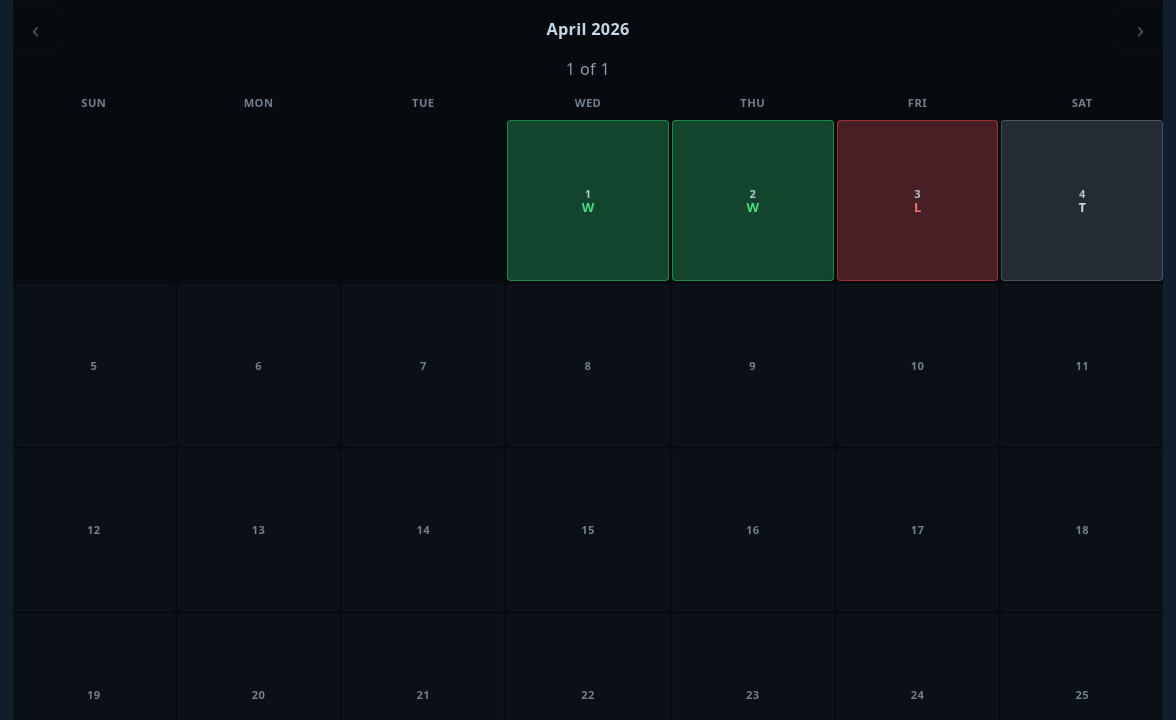
Scenario: RecordTimelineStrip › renders a month calendar with W/L/T cells and tie legend
The image size is (1176, 720).
Expected: the heading "April 2026" is shown, [546,18,630,40]
Expected: the button named "Previous month" is disabled, [13,6,58,51]
Hover over the list item "4 T".
mouse_move(1082, 201)  # box [1001,120,1163,281]
(page scrolled)
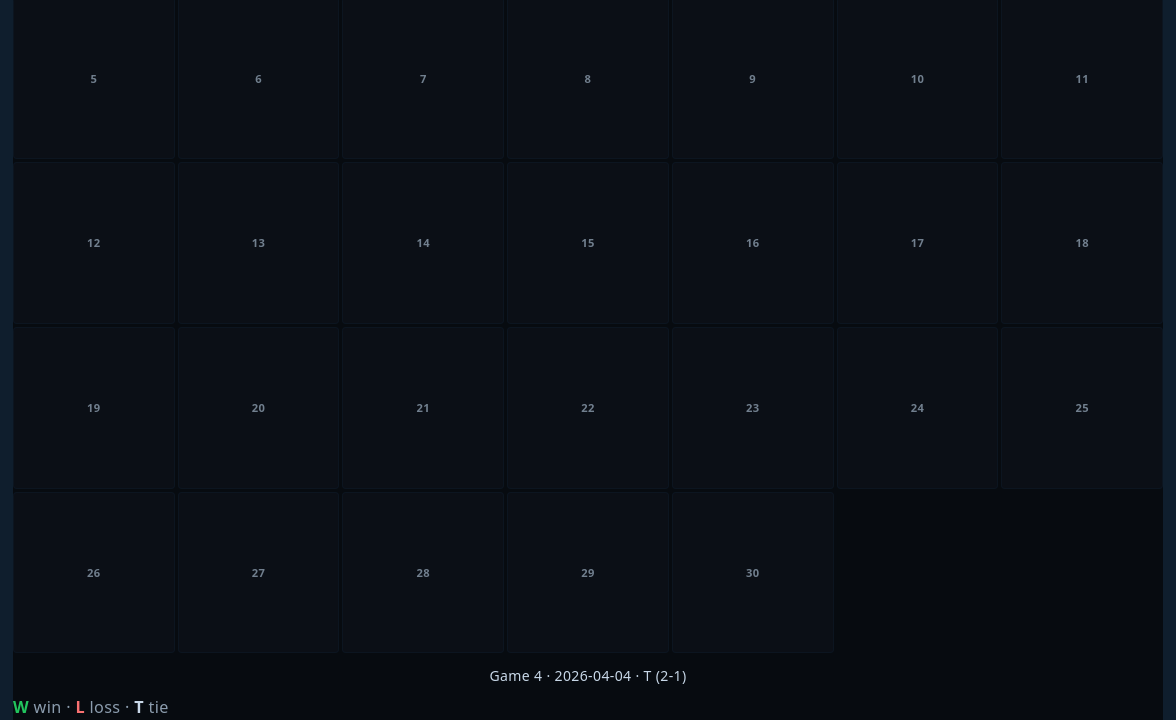
Result: the text "Game 4 · 2026-04-04 · T (2-1)" is shown at [490,666,686,685]
